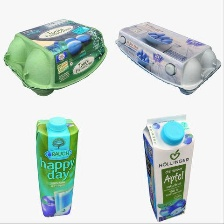carton: (0, 12, 109, 102), (112, 14, 223, 100), (138, 107, 197, 223), (31, 114, 79, 221)
